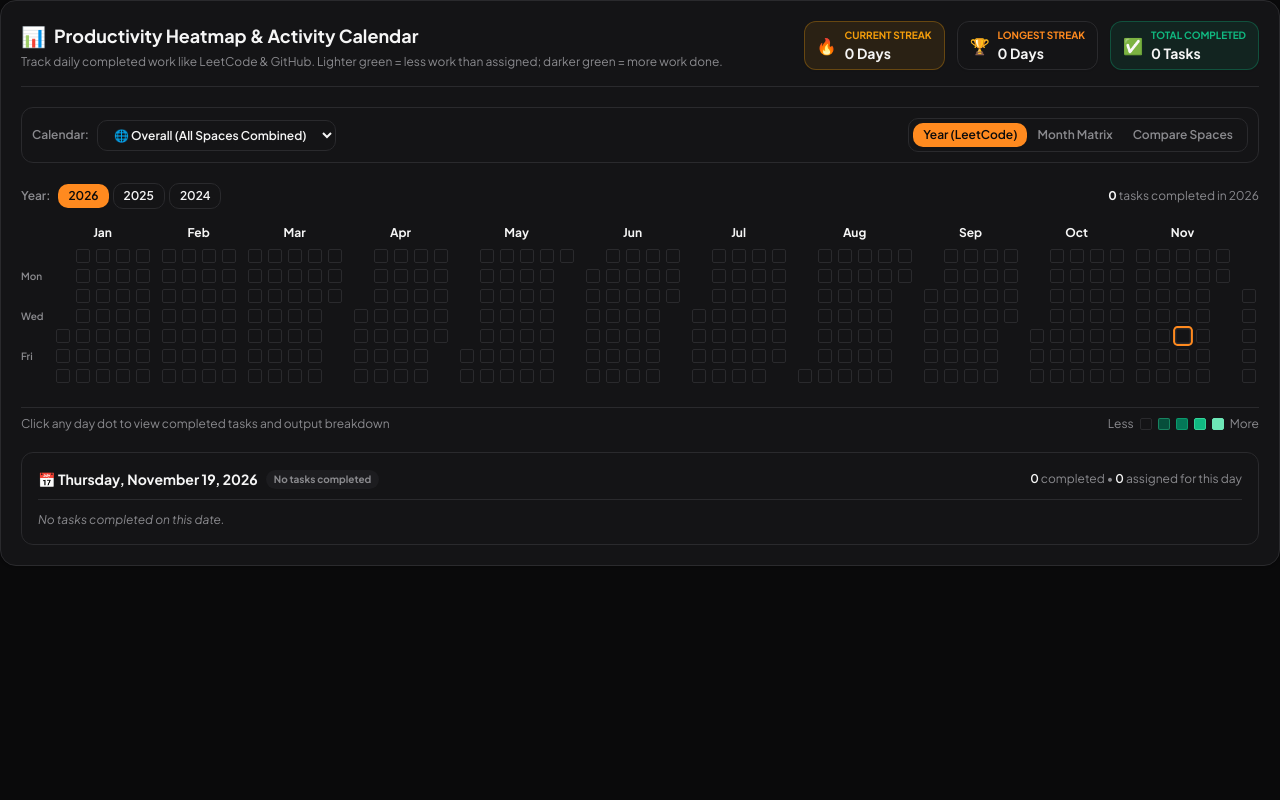
Scenario: ActivityHeatmapCalendar › switches between view modes
What coordinates should you click on to do the following:
click the button "Month Matrix"
I would click on:
 (1075, 135)
Its box is [1027,123,1123,147].
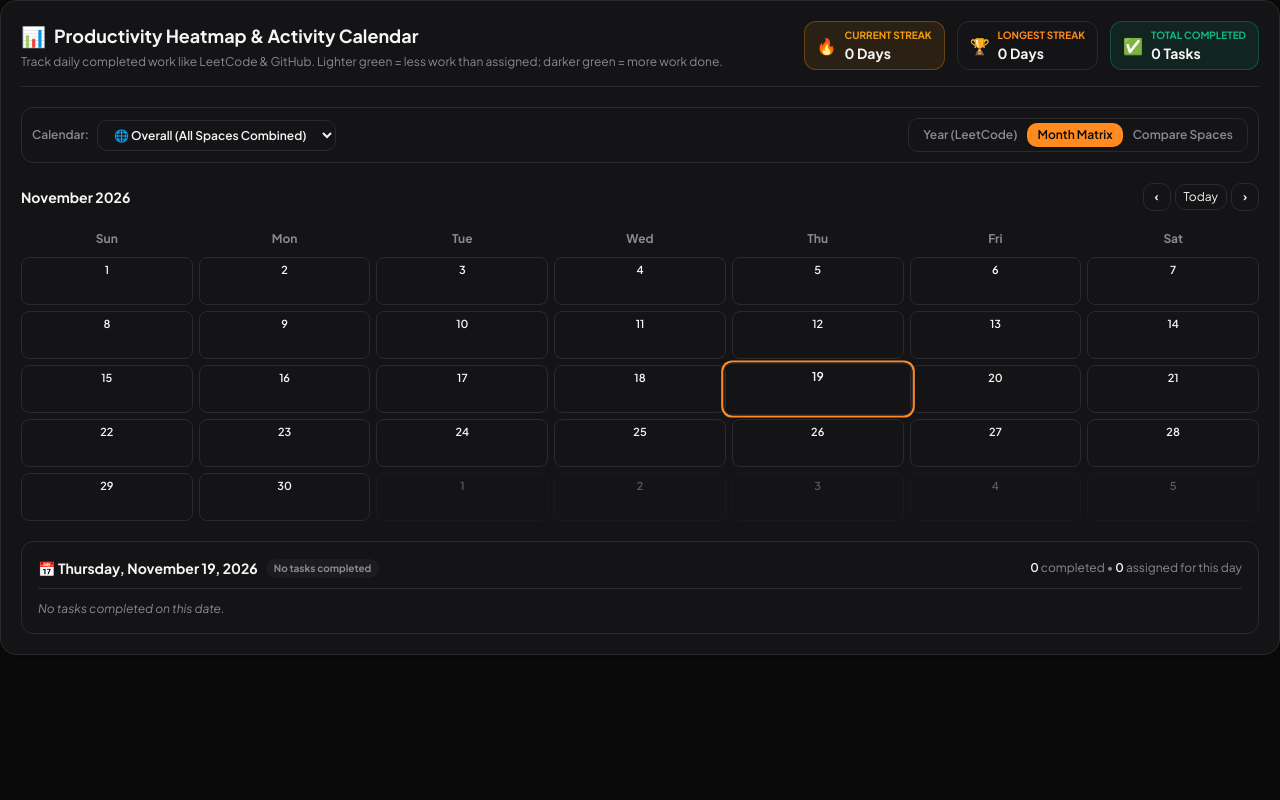
Now the text "Sun" is shown, box [96,231,118,246]
Now the button "Today" is shown, box [1174,184,1227,210]
